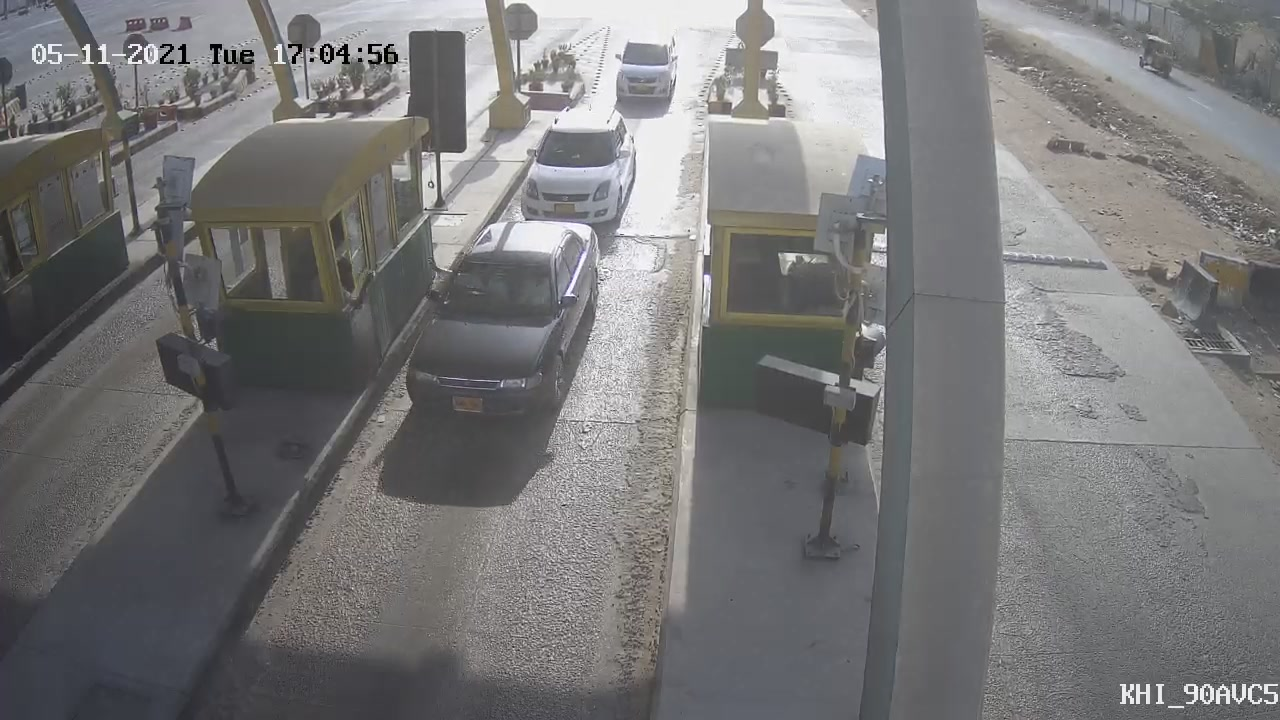F1: (384, 200, 618, 449), (502, 88, 652, 251)
